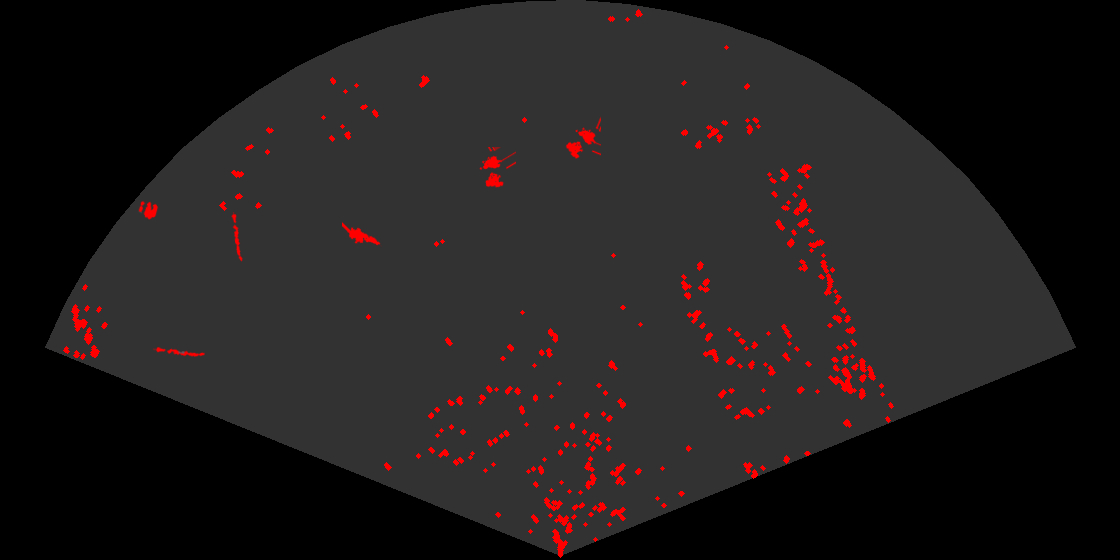ball: (137, 199, 160, 221)
cage: (564, 116, 601, 160), (478, 147, 516, 189)
chain: (230, 212, 244, 262), (153, 346, 205, 358)
frogman: (342, 220, 382, 248)
